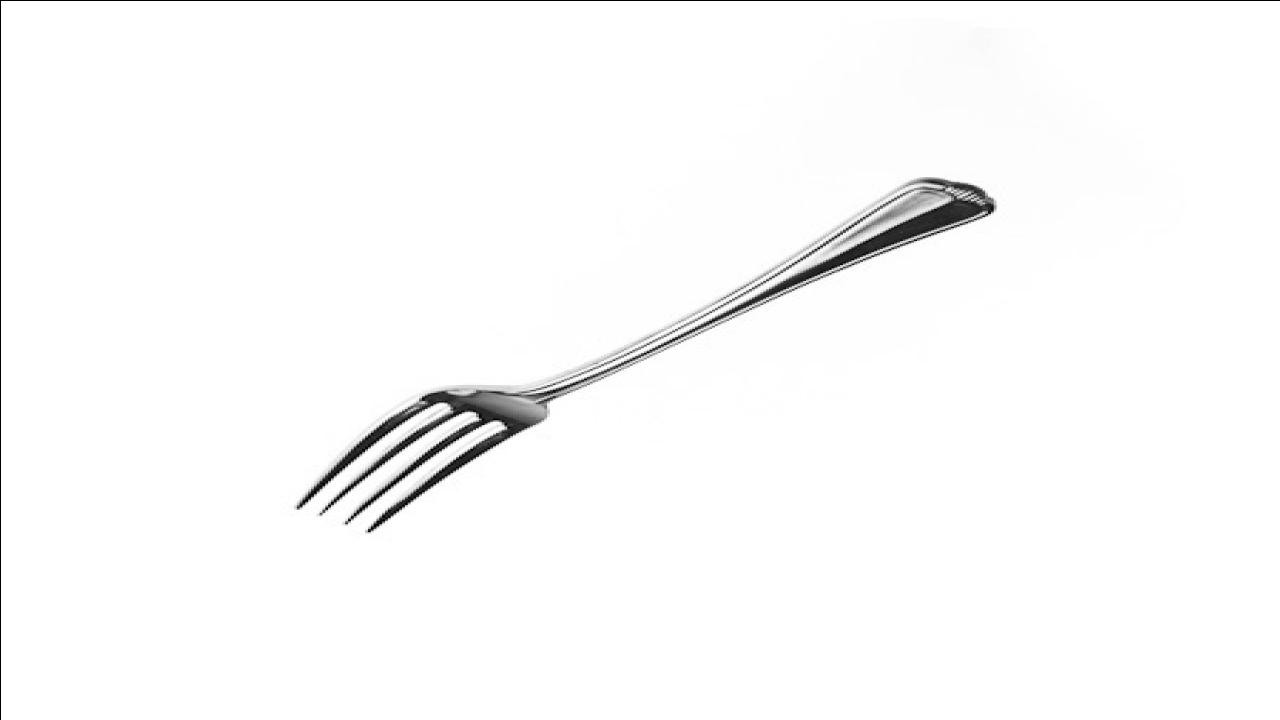fork: (296, 178, 998, 534)
